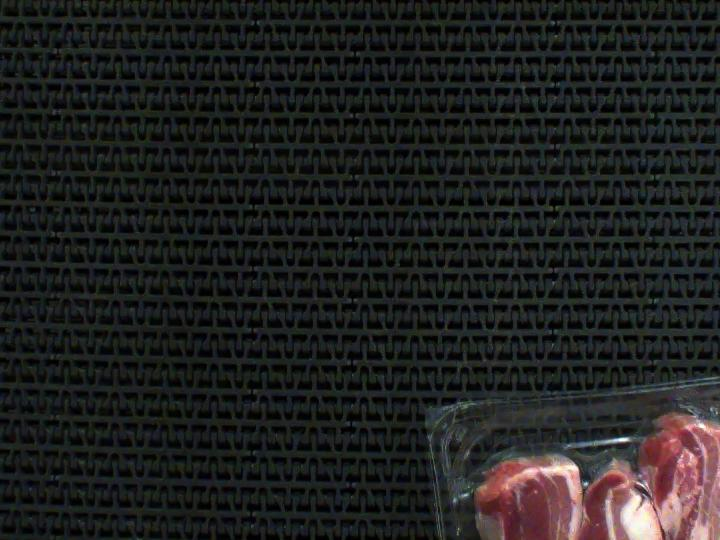unsealed: (636, 342, 720, 482)
